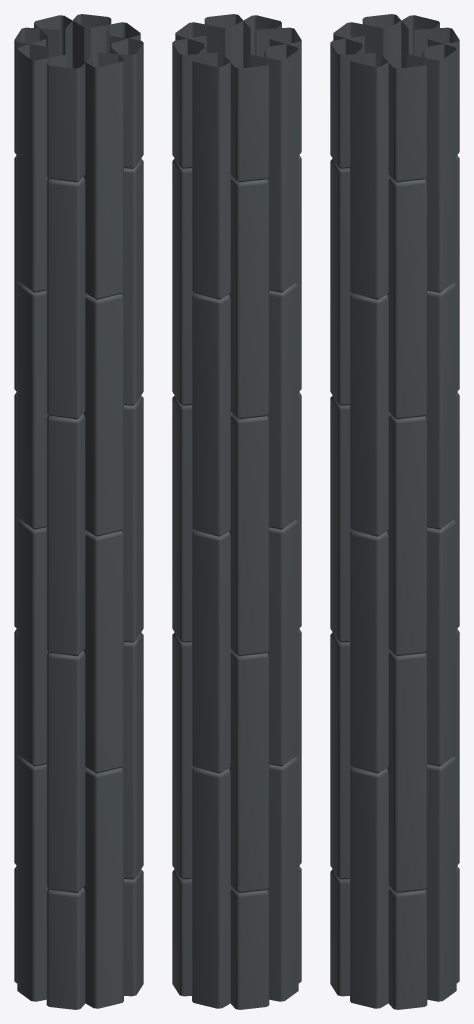
The model's file is pillar_007.glb.
The picture shows the model from 3 angles, left to right: view 1: azimuth 30°, elevation 25°; view 2: azimuth 150°, elevation 25°; view 3: azimuth 330°, elevation 25°; orthographic projection.
Parts seen in each view (by area): view 1: pillar_007; view 2: pillar_007; view 3: pillar_007.
Boxes of the visible parts, <box> form: pillar_007: <box>14,14,143,1009</box>; pillar_007: <box>172,14,301,1009</box>; pillar_007: <box>330,14,459,1009</box>.
Size of the model in its own units: 5.99 by 49.18 by 5.99.
Materials: 1 (1 with a texture image).
